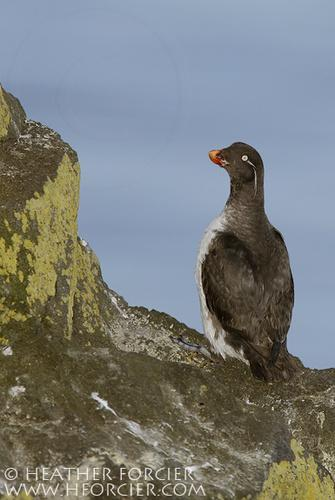007.Parakeet_Auklet: (195, 137, 317, 383)
